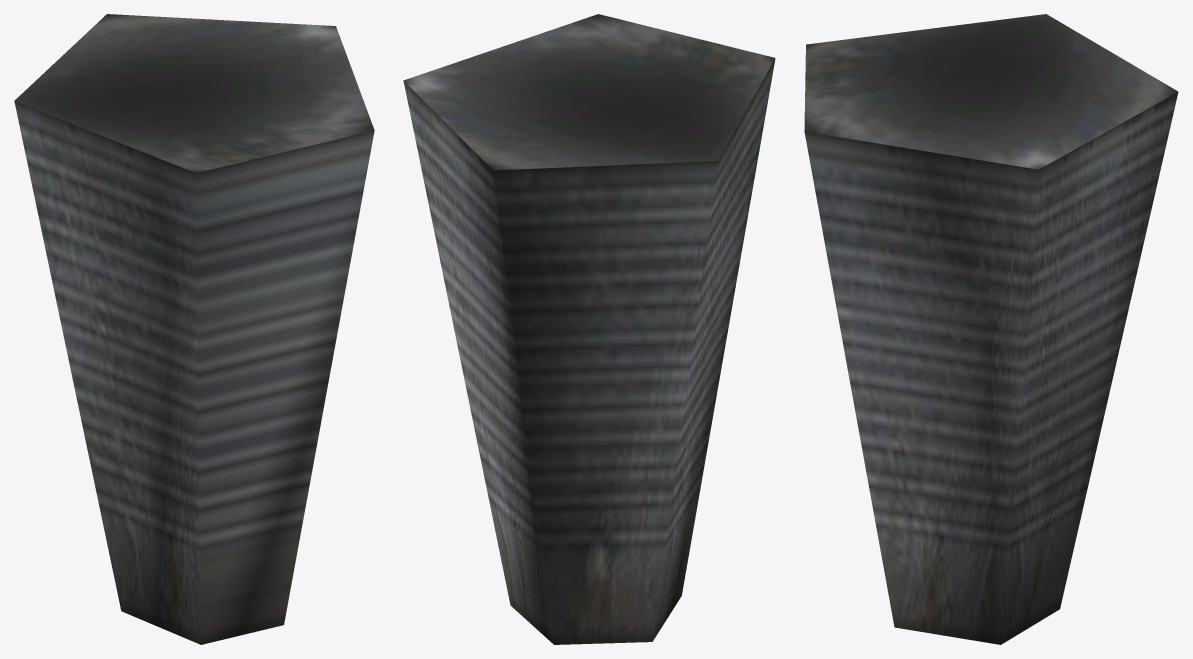
Rendered from edb_con_glass_s1_empty_l1.fbx.
3 renders of one model, left to right at view 1: azimuth 30°, elevation 25°; view 2: azimuth 150°, elevation 25°; view 3: azimuth 270°, elevation 25°, orthographic.
Parts seen in each view (by area): view 1: mesh_node; view 2: mesh_node; view 3: mesh_node.
Part boxes in pixels (left/top/right/bottom): mesh_node: left=14, top=14, right=374, bottom=644; mesh_node: left=403, top=14, right=775, bottom=644; mesh_node: left=804, top=14, right=1178, bottom=644.
Bounding box in the file's own units: 0.1208 × 0.1875 × 0.1226.
